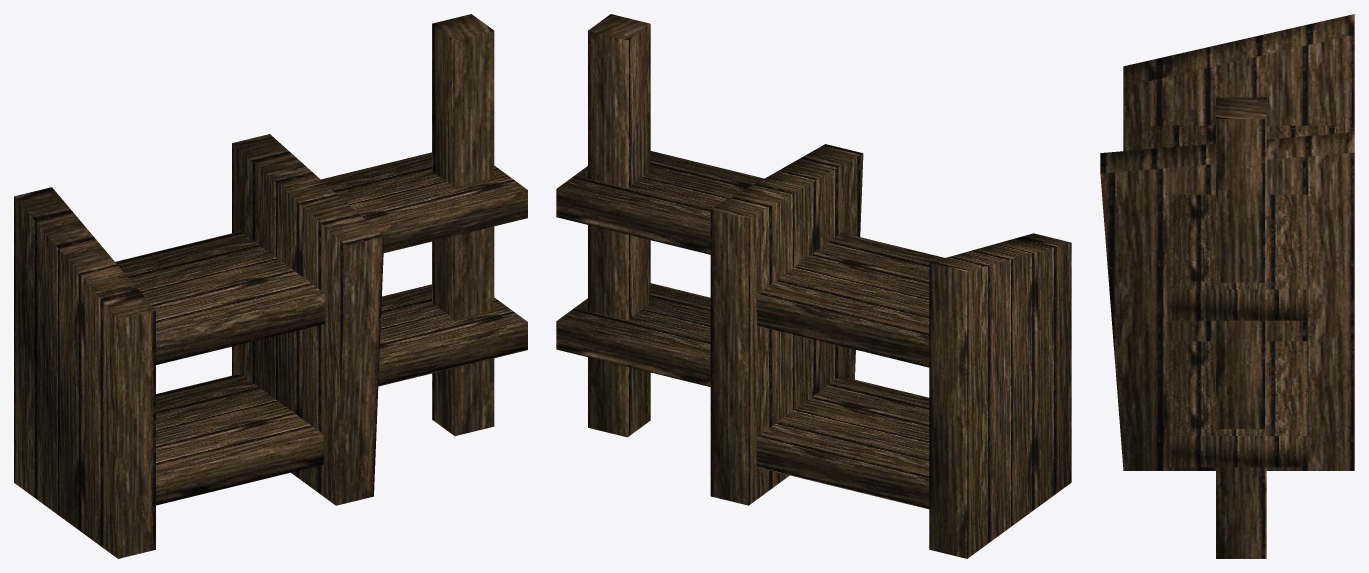
File: OC_LOB_SHELF_1.glb
3 views of the same model, side by side, from view 1: azimuth 30°, elevation 25°; view 2: azimuth 150°, elevation 25°; view 3: azimuth 270°, elevation 25° (orthographic). The views are drawn at different scales.
Parts seen in each view (by area): view 1: Mesh; view 2: Mesh; view 3: Mesh.
Part boxes in pixels (x1,y1,x2,y2): Mesh: (14, 14, 527, 558); Mesh: (556, 14, 1071, 558); Mesh: (1100, 14, 1354, 558).
Bounding box in the file's own units: 2.39 × 2.1 × 1.1.
1 material, 1 textured.
